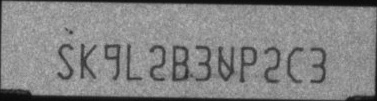2: (149, 44, 166, 81), (264, 45, 280, 83)
3: (308, 45, 327, 83), (194, 43, 212, 81)
9: (104, 43, 121, 80)
B: (171, 44, 189, 81)
C: (287, 45, 304, 84)
K: (80, 42, 97, 79)
L: (126, 43, 144, 81)
P: (239, 44, 257, 84)
S: (56, 43, 74, 80)
V: (217, 44, 234, 82)
